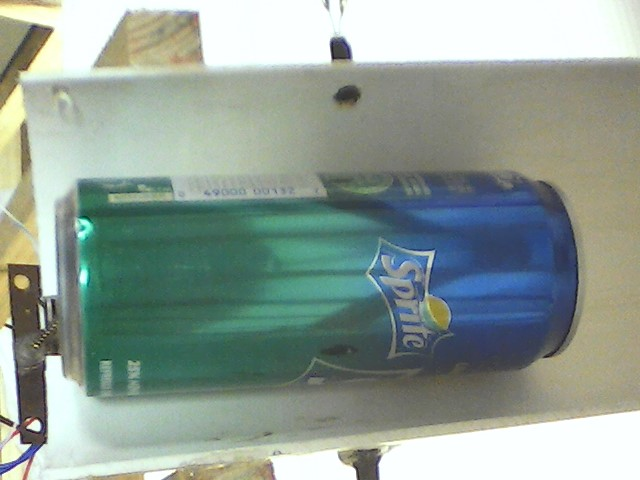lata: (51, 164, 591, 398)
